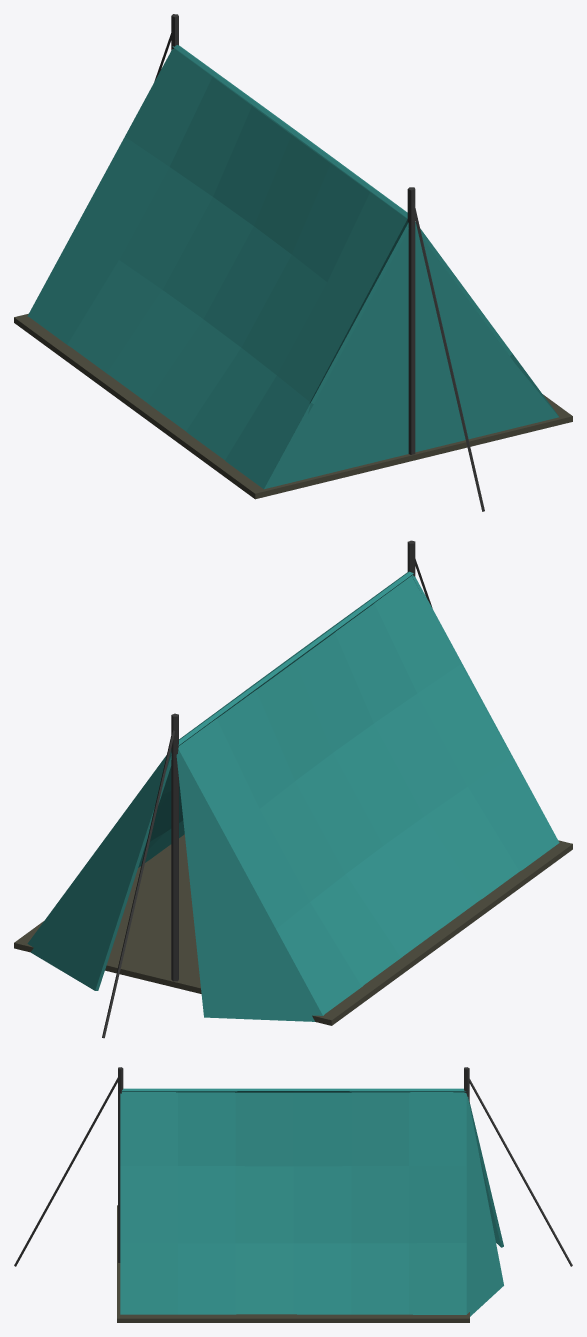
File: kemah-tenda-2.glb
3 renders of one model, top to bottom at view 1: azimuth 30°, elevation 25°; view 2: azimuth 150°, elevation 25°; view 3: azimuth 270°, elevation 25°, orthographic. The views are drawn at different scales.
Visible parts, largest first — view 1: tenda, alas, tiang, tali; view 2: tenda, alas, tiang.001, tali.001; view 3: tenda, alas, tiang, tali, tali.001.
Part boxes in pixels (left/top/right/bottom): tenda: left=27, top=45, right=559, bottom=489; alas: left=14, top=313, right=572, bottom=499; tiang: left=407, top=187, right=415, bottom=454; tali: left=412, top=202, right=484, bottom=511; tenda: left=27, top=571, right=559, bottom=1021; alas: left=14, top=834, right=572, bottom=1025; tiang.001: left=171, top=713, right=178, bottom=981; tali.001: left=102, top=730, right=174, bottom=1038; tenda: left=120, top=1088, right=503, bottom=1316; alas: left=117, top=1205, right=469, bottom=1322; tiang: left=118, top=1067, right=123, bottom=1262; tali: left=14, top=1077, right=117, bottom=1266; tali.001: left=468, top=1078, right=572, bottom=1266.
Size of the model in its own units: 1.78 by 1.46 by 3.71.
